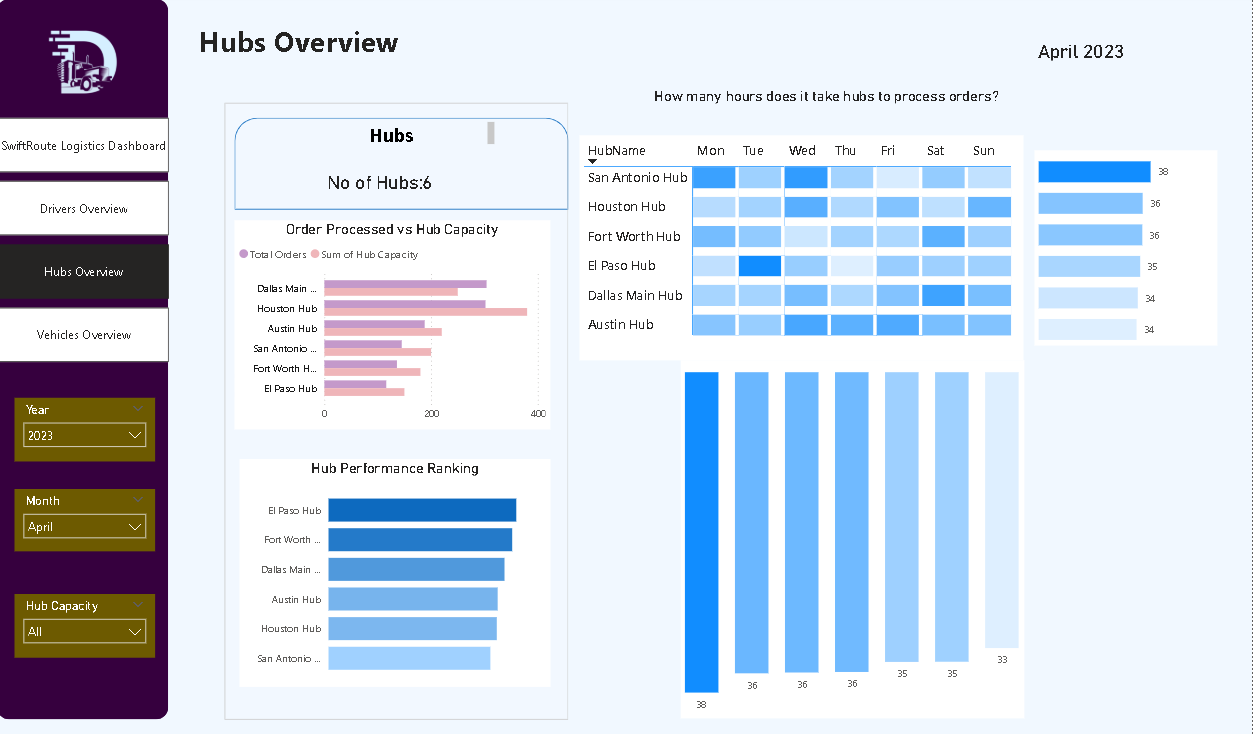

What the dashboard file says about the page in this screenshot:
{"tool":"powerbi","page":{"name":"Hubs Overview","canvas":[1450,850],"ordinal":2},"visuals":[{"type":"shape","box":[0,0,197.8,831.9],"z":0},{"type":"textbox","box":[227.8,22.2,536.3,54.4],"z":1000},{"type":"slicer","fields":{"Values":["Date Table.Year"]},"box":[20.5,459.8,162.2,73.9],"z":2000},{"type":"slicer","fields":{"Values":["Date Table.Month"]},"box":[20.5,566.5,162.2,71.8],"z":3000},{"type":"shape","box":[274.6,137.3,385.7,106.2],"z":4000},{"type":"shape","box":[263.1,119.3,397.2,712.6],"z":5000},{"type":"textbox","box":[340,137.3,240.3,37.6],"z":6000},{"type":"cardVisual","fields":{"Data":["Hubs.No_of_hubs"]},"box":[364.5,174.9,176.5,50.7],"z":7000},{"type":"clusteredBarChart","title":"Order Processed vs Hub Capacity","fields":{"Category":["Hubs.HubName"],"Y":["Orders.Total Orders","Sum(Hubs.Hub Capacity)"]},"box":[274.6,255,364.5,241.9],"z":8000},{"type":"barChart","title":"Hub Performance Ranking","fields":{"Category":["Hubs.HubName"],"Y":["Orders.On_Time_Delivery_Rate"]},"box":[279.5,531.2,359.6,263.1],"z":9000},{"type":"image","box":[47.2,18.5,104.7,115],"z":10000},{"type":"cardVisual","fields":{"Data":["Orders.Year_Month_Title"]},"box":[1095,22.9,313.8,53.9],"z":11000},{"type":"pivotTable","fields":{"Rows":["Hubs.HubName"],"Columns":["Date Table.Day_"],"Values":["Orders.Average_Delivery_Time(Hrs)"]},"box":[673.4,156.9,513.2,259.9],"z":12000},{"type":"columnChart","fields":{"Category":["Date Table.Day"],"Y":["Orders.Average_Delivery_Time(Hrs)"]},"box":[789.4,416.8,397.2,413.5],"z":13000},{"type":"barChart","fields":{"Category":["Hubs.HubName"],"Y":["Orders.Average_Delivery_Time(Hrs)"]},"box":[1198,174.9,210.8,225.5],"z":14000},{"type":"cardVisual","fields":{"Data":["Hubs.Hub title"]},"box":[742,76.8,444.6,60.5],"z":15000},{"type":"pageNavigator","box":[2.1,137.5,197.1,283.3],"z":15001},{"type":"slicer","fields":{"Values":["Hubs.Hub Capacity"]},"box":[20.5,687.7,162.2,73.9],"z":15003}]}

Visuals, with their boxes on the page's 1450x850 design canvas (x1, y1, x2, y2). These are canvas units, not pixel positions in the 1253x734 screenshot, which may show the page scaled, cropped or inside an application window:
shape: 0 0 198 832
textbox: 228 22 764 77
slicer - Date Table.Year: 20 460 183 534
slicer - Date Table.Month: 20 566 183 638
shape: 275 137 660 244
shape: 263 119 660 832
textbox: 340 137 580 175
cardVisual - Hubs.No_of_hubs: 364 175 541 226
"Order Processed vs Hub Capacity" clusteredBarChart: 275 255 639 497
"Hub Performance Ranking" barChart: 280 531 639 794
image: 47 18 152 134
cardVisual - Orders.Year_Month_Title: 1095 23 1409 77
pivotTable - Hubs.HubName x Date Table.Day_: 673 157 1187 417
columnChart - Date Table.Day x Orders.Average_Delivery_Time(Hrs): 789 417 1187 830
barChart - Hubs.HubName x Orders.Average_Delivery_Time(Hrs): 1198 175 1409 400
cardVisual - Hubs.Hub title: 742 77 1187 137
pageNavigator: 2 138 199 421
slicer - Hubs.Hub Capacity: 20 688 183 762
